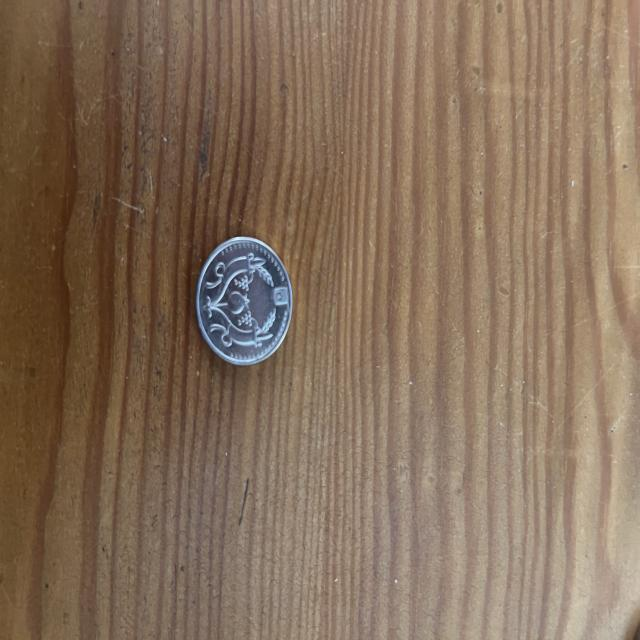2-shekel: (196, 236, 297, 378)
